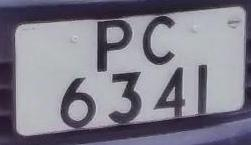1: (188, 58, 216, 122)
3: (99, 69, 154, 126)
4: (147, 63, 192, 122)
6: (52, 72, 102, 133)
C: (136, 11, 182, 69)
P: (82, 15, 141, 76)
